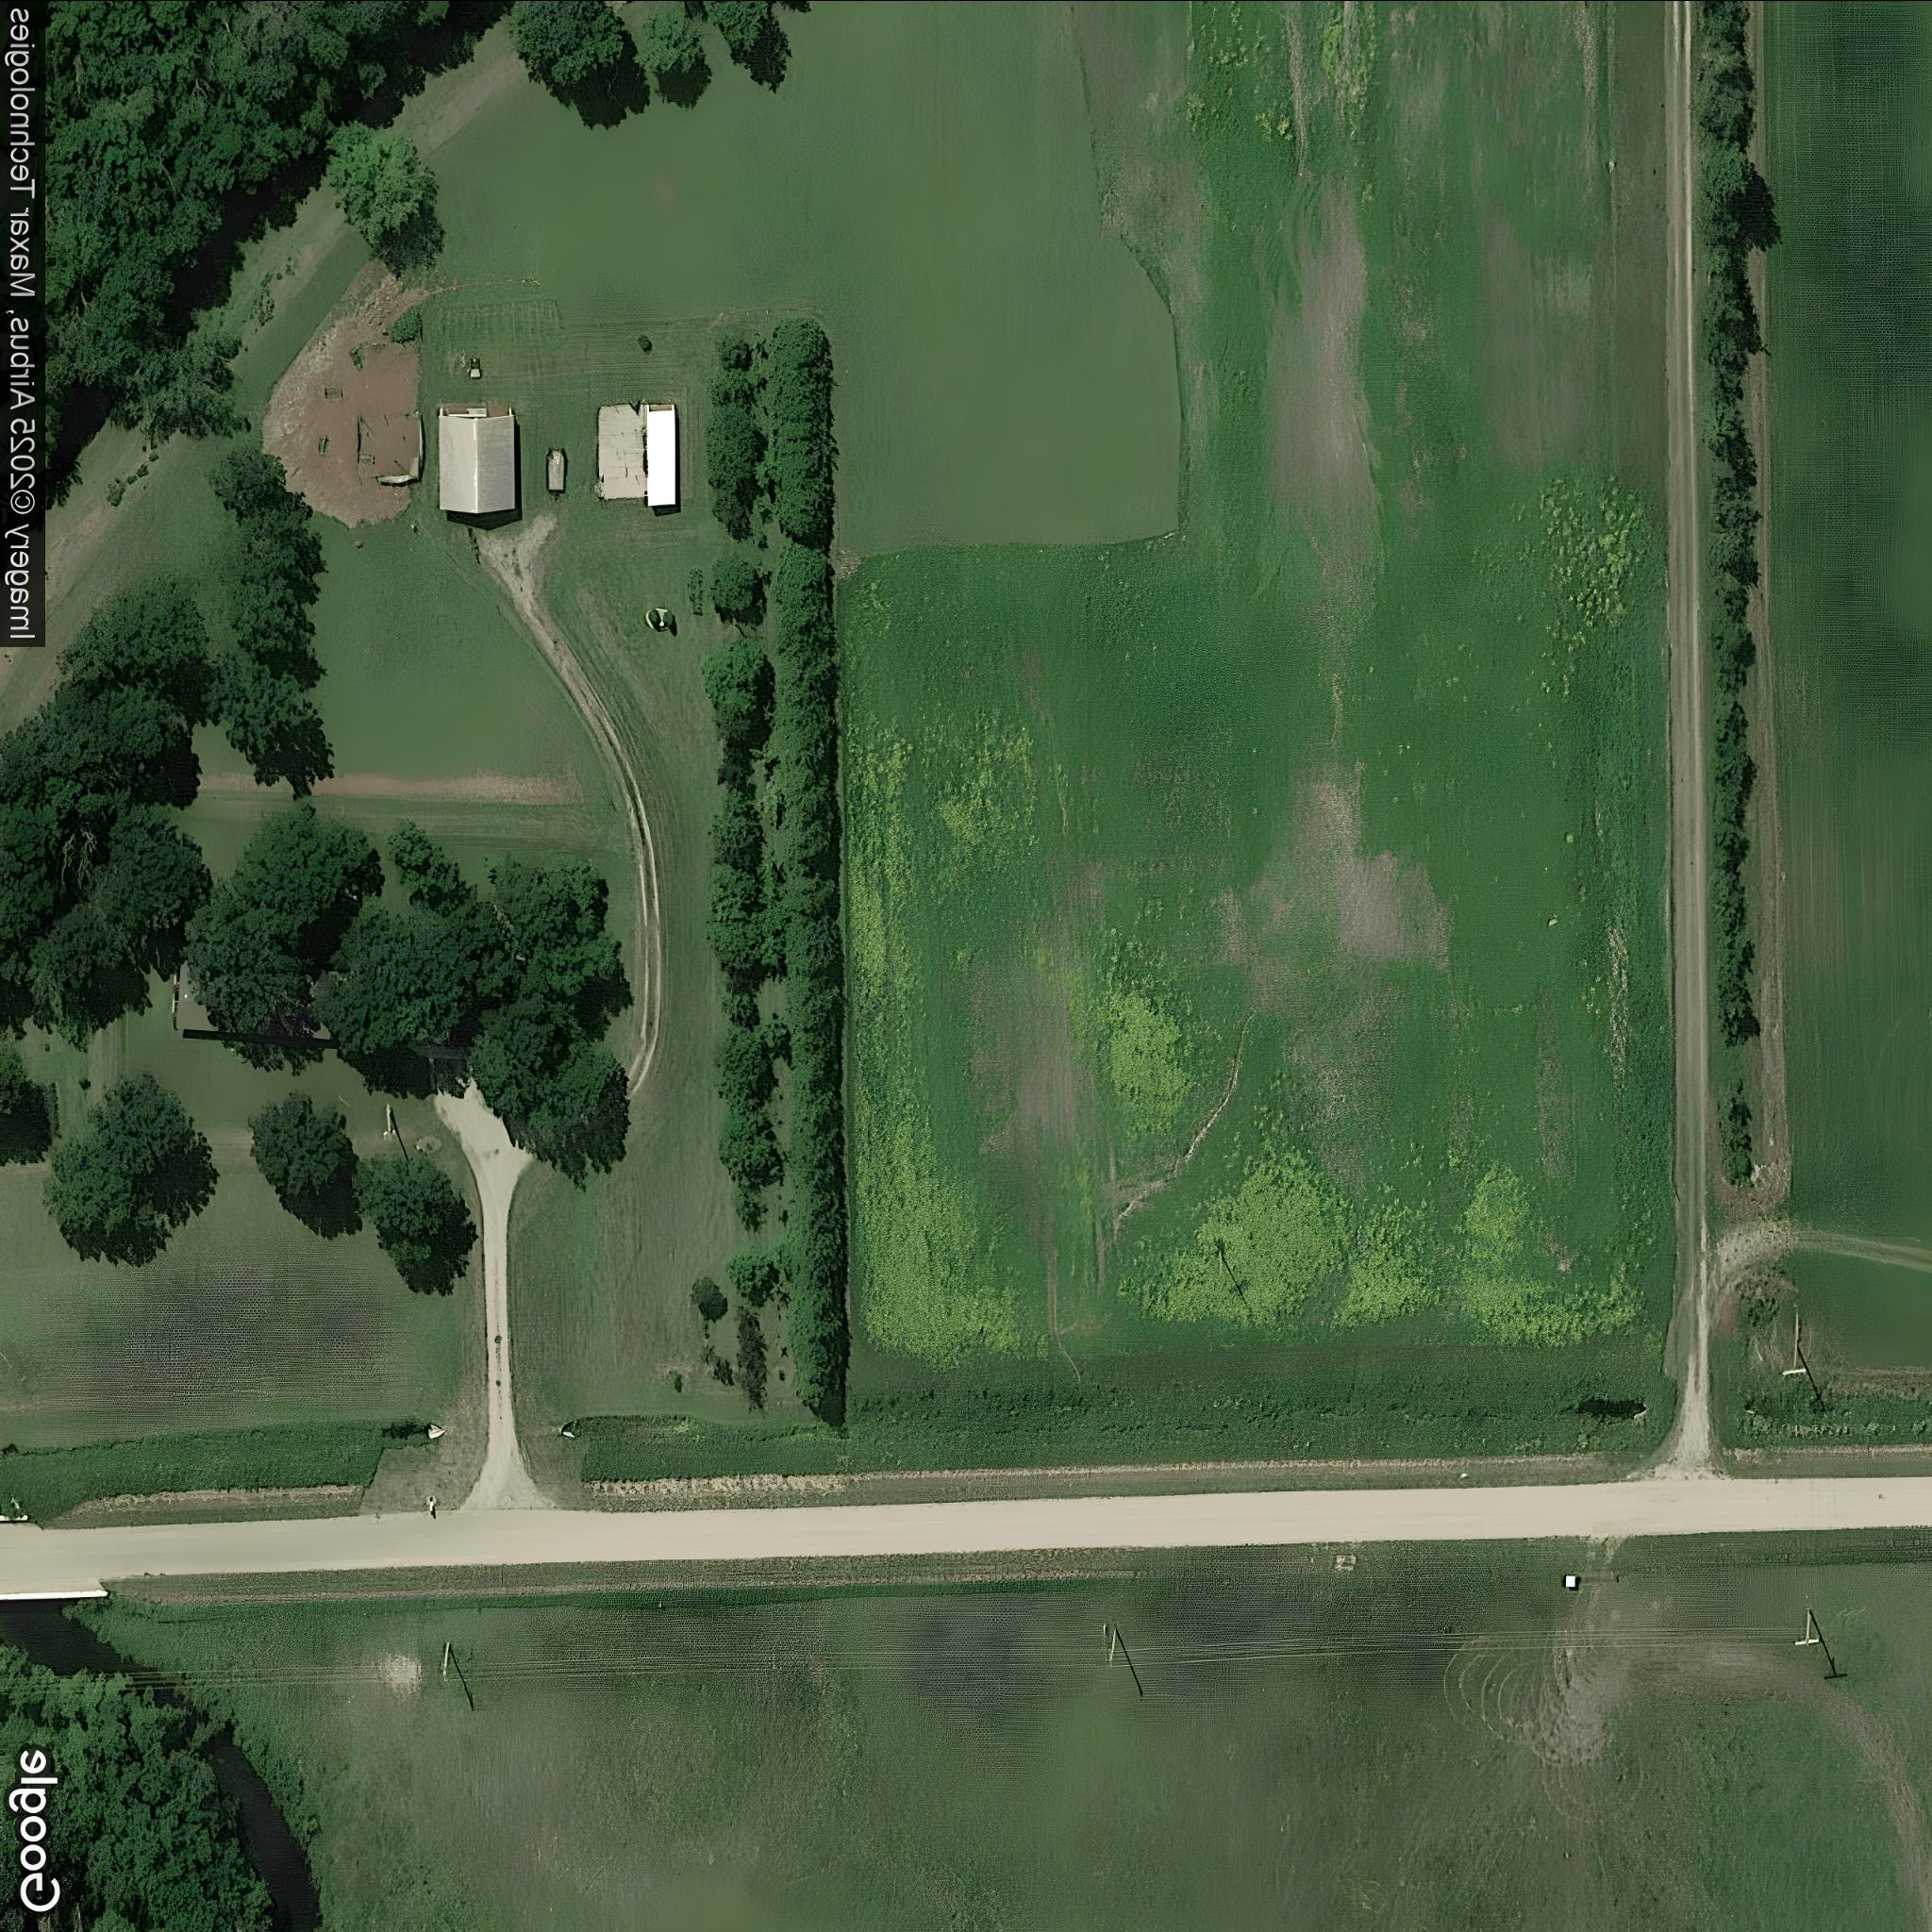House: (439, 405, 515, 513)
Trailer: (648, 403, 676, 506)
